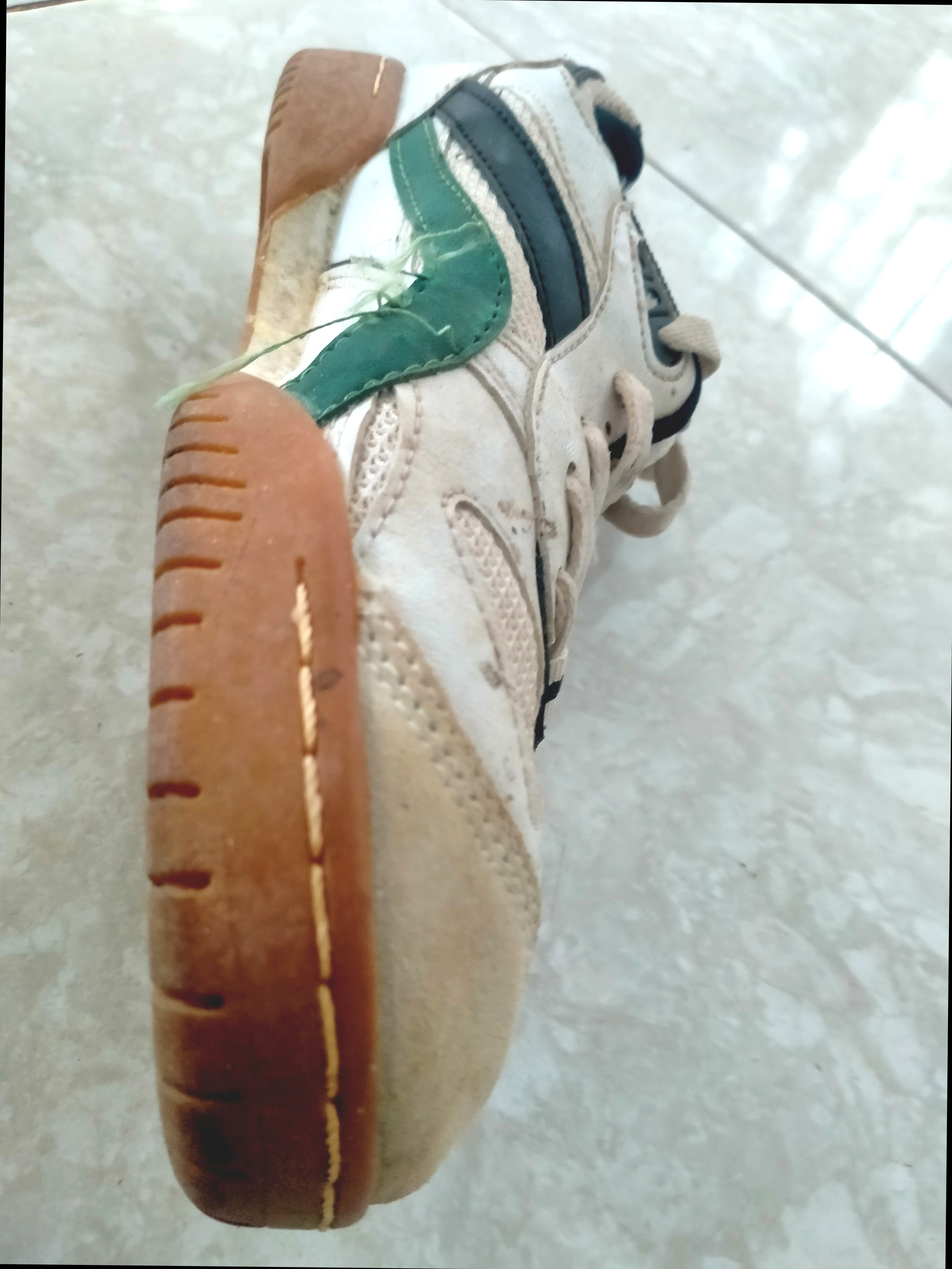broken: (451, 224, 508, 357), (384, 243, 439, 316)
